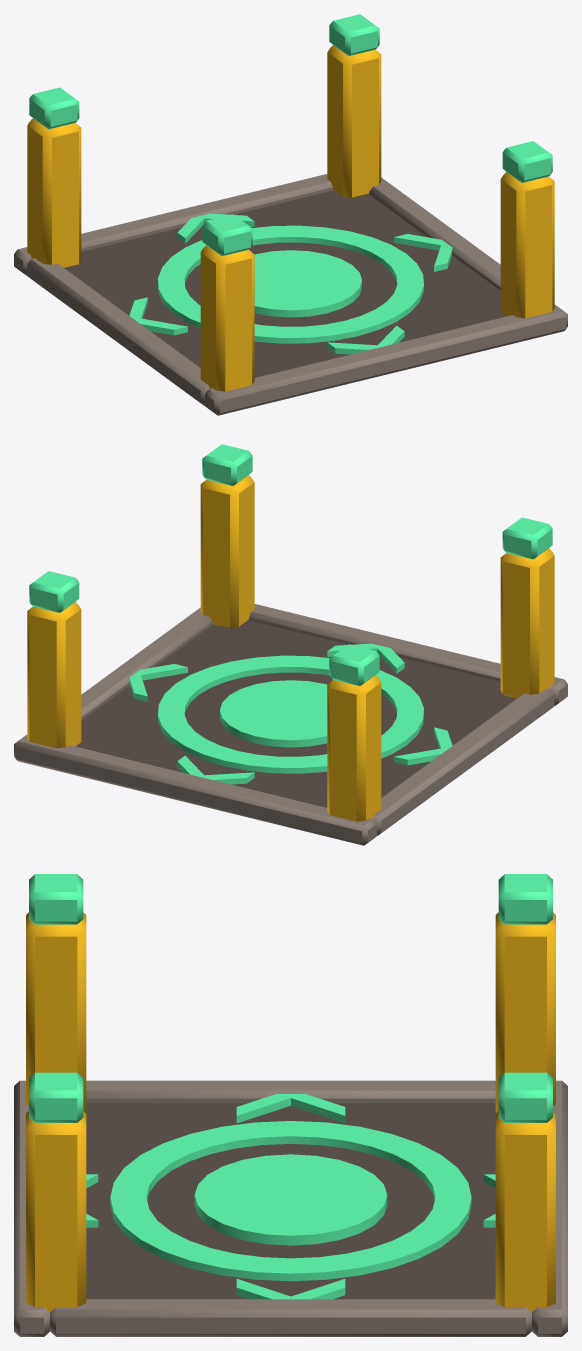
The model's file is exit_pad__upper.glb.
3 views of the same model, one above another, from view 1: azimuth 30°, elevation 25°; view 2: azimuth 150°, elevation 25°; view 3: azimuth 270°, elevation 25° (orthographic). The views are drawn at different scales.
Visible parts, largest first — view 1: exit_pad; view 2: exit_pad; view 3: exit_pad.
Boxes of the visible parts, x1,y1,x2,y2 form: exit_pad: (14,14,567,415); exit_pad: (14,444,567,845); exit_pad: (14,874,567,1336).
Bounding box in the file's own units: 0.92 × 0.44 × 0.92.
